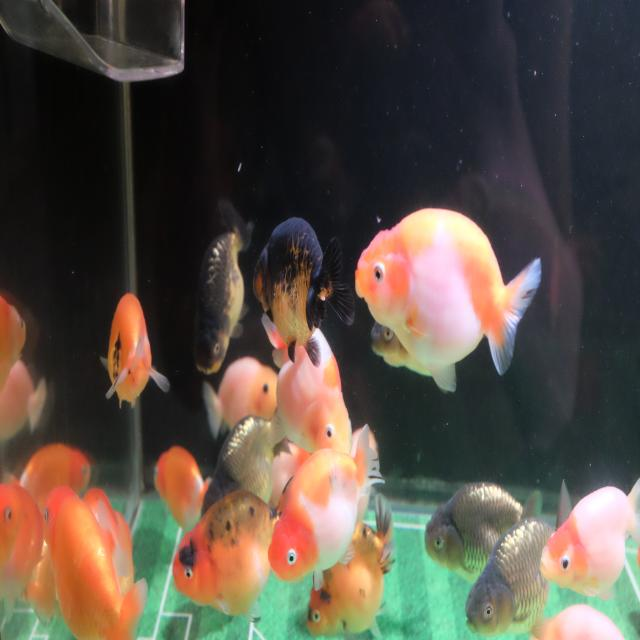Goldfish: (354, 204, 542, 379), (267, 423, 385, 586), (464, 480, 572, 639), (173, 486, 294, 626), (42, 483, 148, 640), (251, 212, 355, 370), (262, 313, 354, 460), (306, 492, 397, 640), (540, 476, 640, 604), (424, 479, 542, 583), (190, 198, 252, 376), (98, 290, 170, 414), (201, 356, 281, 444), (152, 441, 207, 539)
